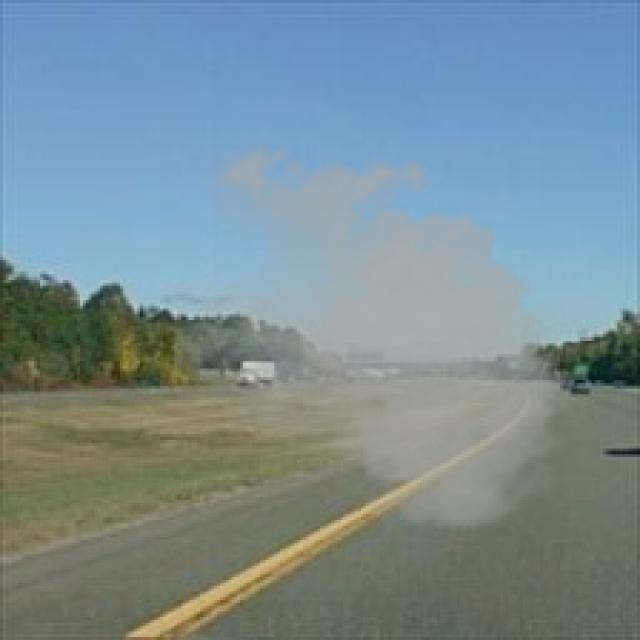smoke: (168, 131, 588, 540)
